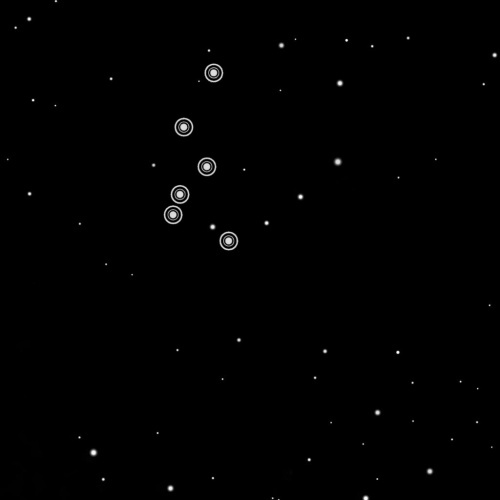cassiopeia: (156, 59, 242, 255)
